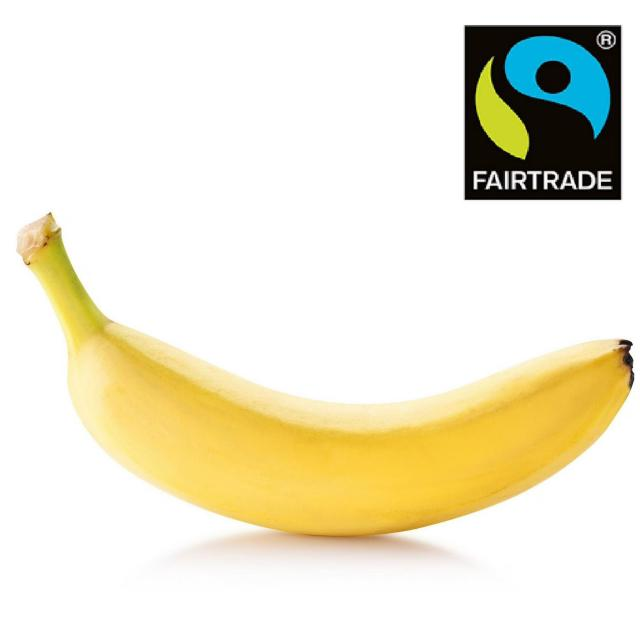banana: (18, 215, 634, 534)
